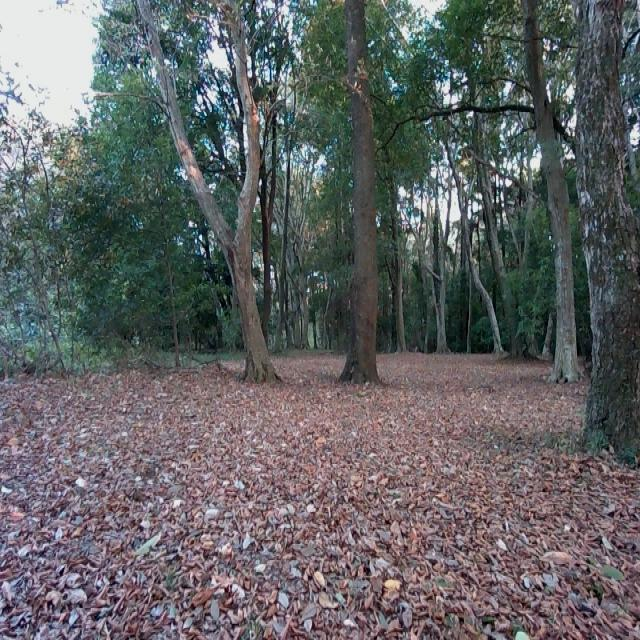bush: (0, 96, 216, 368)
tree: (154, 0, 282, 378), (571, 0, 640, 448), (526, 0, 576, 379), (339, 0, 381, 380)
